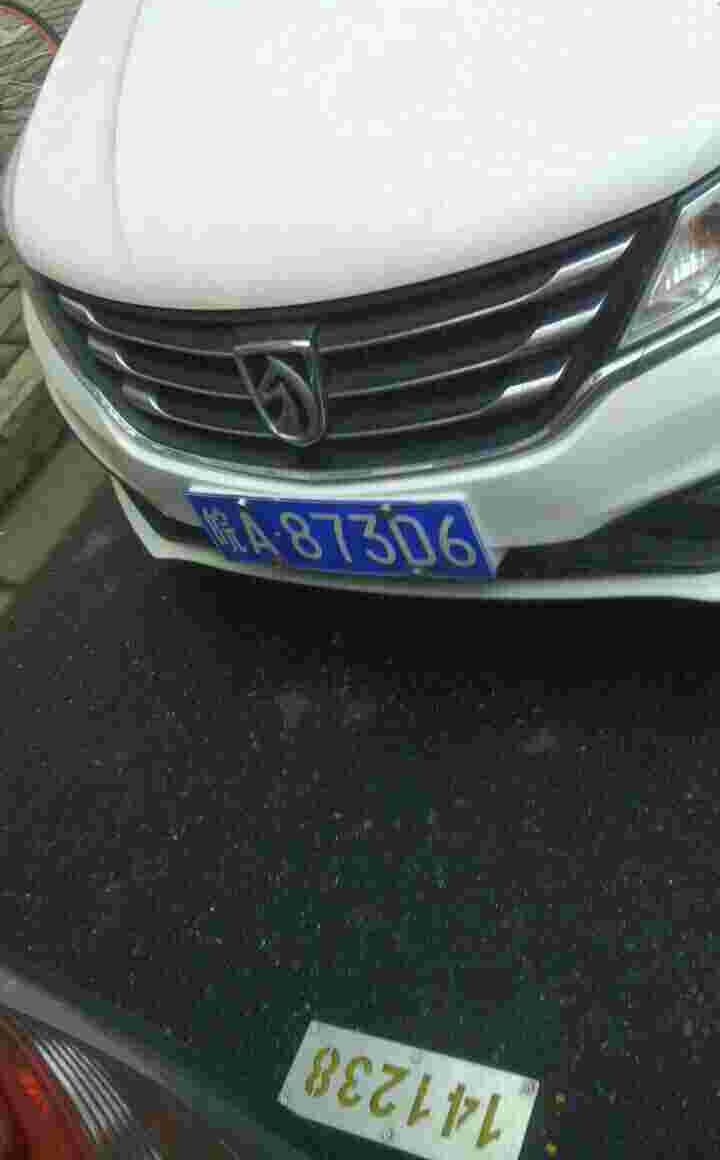license_plate: (190, 499, 498, 583)
